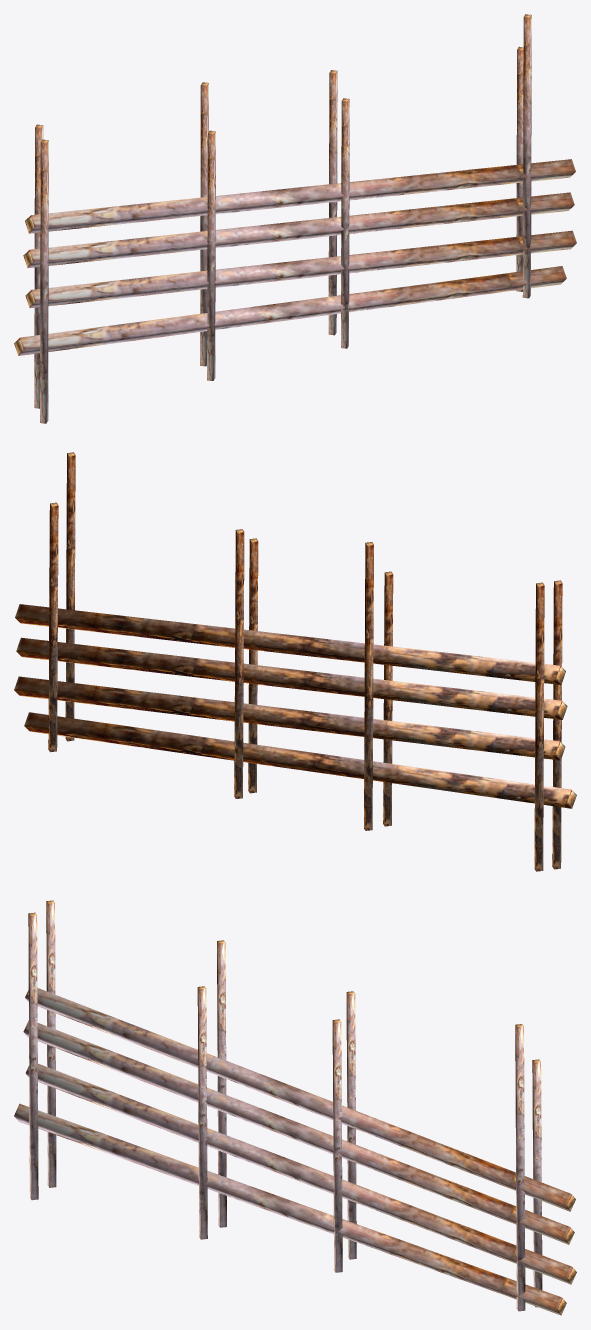
Rendered from fence.fbx.
3 views of the same model, one above another, from view 1: azimuth 30°, elevation 25°; view 2: azimuth 150°, elevation 25°; view 3: azimuth 330°, elevation 25° (orthographic).
Visible parts, largest first — view 1: Cube.001; view 2: Cube.001; view 3: Cube.001.
Boxes of the visible parts, <box> form: Cube.001: <box>14,14,576,423</box>; Cube.001: <box>14,452,576,871</box>; Cube.001: <box>14,900,576,1315</box>.
Bounding box in the file's own units: 3.84 × 1.93 × 0.2412.
